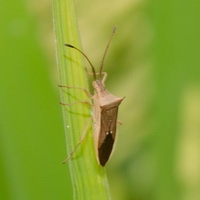insect: (59, 26, 124, 166)
